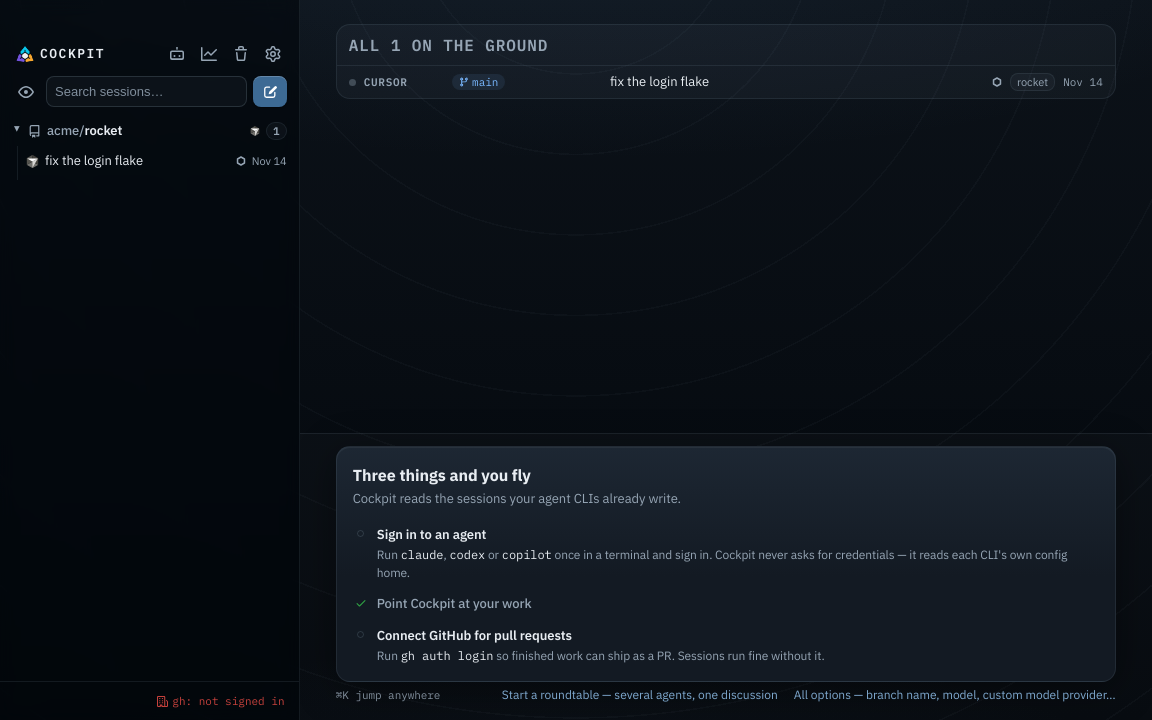
App and a session its agent’s ACP server does not keep › opens an editor’s Cursor chat read-only while Cursor’s ACP agent answers, and says why
Click the button "Cursor main fix the login flake rocket Nov 14".
click(386, 82)  # box [337, 66, 1115, 98]
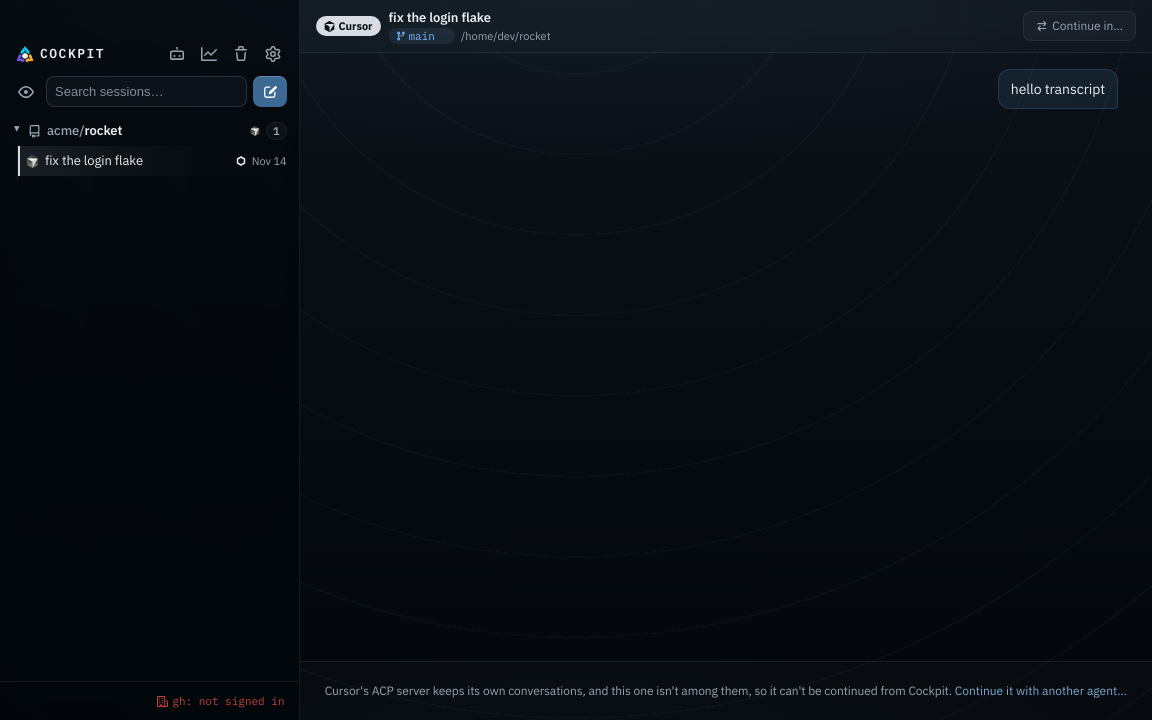
Expected: the text "hello transcript" is shown, [1011, 78, 1105, 100]
Expected: the text "Cursor's ACP server keeps its own conversations, and this one isn't among them" is shown, [325, 683, 952, 698]
Expected: the button "Continue it with another agent…" is shown, [955, 682, 1127, 700]
